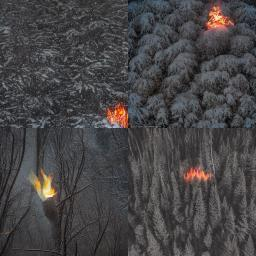Small fire: (21, 163, 72, 219), (97, 89, 135, 137), (198, 0, 241, 41), (179, 160, 219, 188)
